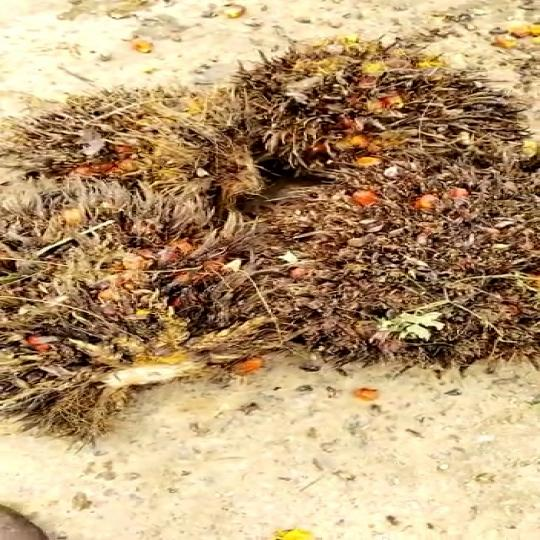terlalu masak: (185, 148, 540, 380), (0, 185, 234, 443), (217, 36, 525, 183), (0, 76, 222, 186)
